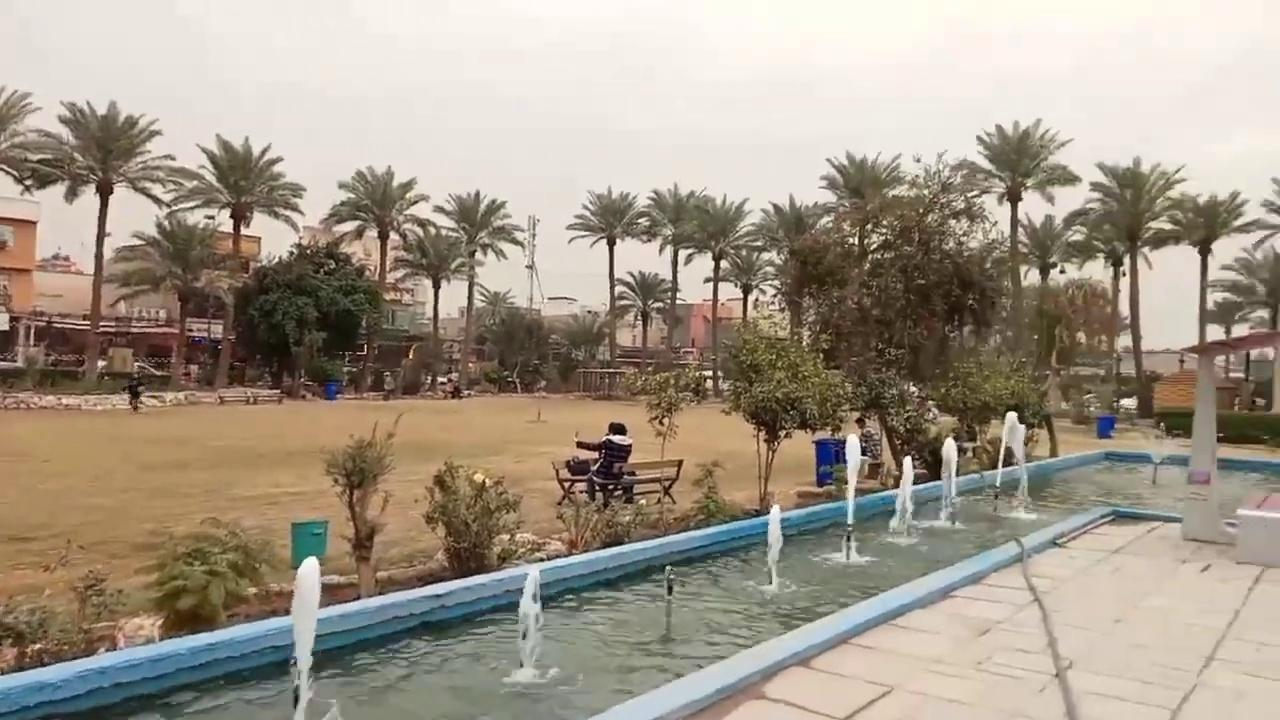fountain: (2, 415, 1276, 718), (820, 431, 877, 564), (500, 566, 560, 686), (287, 553, 322, 716), (990, 409, 1038, 519), (746, 502, 797, 595), (886, 454, 919, 538), (935, 434, 964, 526), (762, 502, 784, 589), (516, 566, 543, 621)
person: (573, 421, 634, 505), (854, 415, 879, 459), (121, 373, 146, 411), (382, 371, 394, 401)
tree: (24, 97, 176, 378), (165, 131, 306, 386), (1161, 187, 1256, 542), (1066, 154, 1188, 417), (957, 116, 1081, 358), (876, 149, 993, 385), (318, 163, 430, 389), (718, 321, 847, 512), (237, 235, 384, 397), (105, 209, 229, 390), (816, 148, 907, 379), (431, 188, 524, 389), (0, 82, 65, 363), (668, 191, 756, 398), (165, 131, 306, 257), (1206, 175, 1279, 410), (318, 409, 406, 598), (133, 515, 270, 636), (564, 184, 654, 368), (931, 344, 1049, 468), (1060, 205, 1130, 409), (1165, 188, 1254, 347), (388, 222, 474, 386), (419, 457, 523, 577), (640, 181, 706, 354), (754, 192, 828, 344), (1012, 211, 1075, 376), (850, 366, 934, 484), (248, 284, 321, 396), (623, 362, 705, 461), (0, 82, 61, 197), (1205, 238, 1279, 331), (613, 268, 672, 372), (704, 245, 778, 324), (484, 309, 548, 391), (471, 283, 516, 373), (1206, 291, 1248, 377), (558, 309, 611, 367), (1246, 174, 1279, 253), (474, 282, 516, 329)
